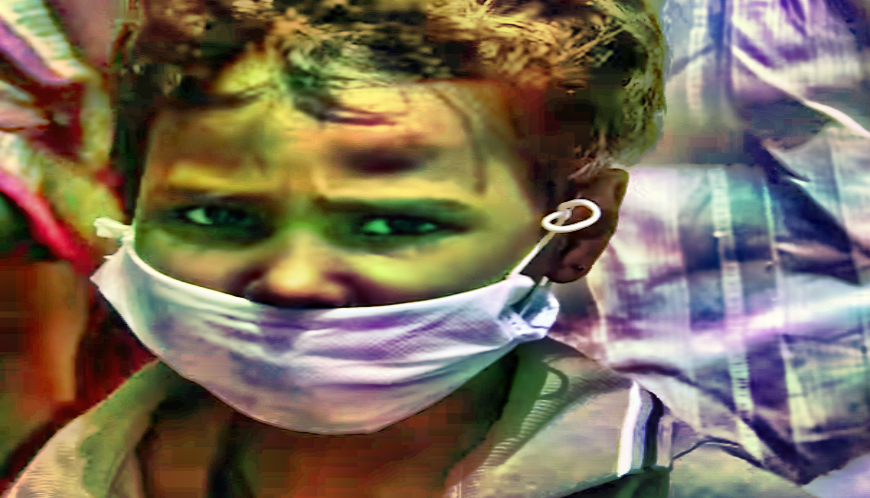mask_weared_incorrect: (88, 7, 617, 436)
